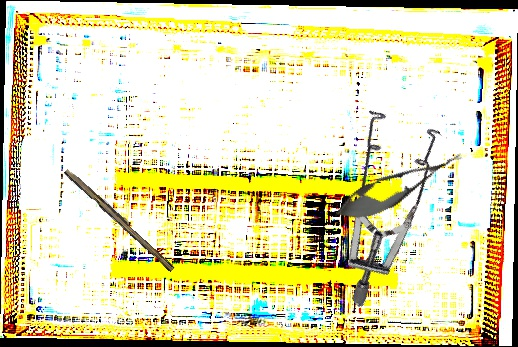Micro Scissor: (327, 139, 470, 233)
Scalpel Handle: (62, 166, 178, 273)
Speculum: (265, 85, 492, 309)
